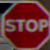Stop: (2, 3, 47, 40)
